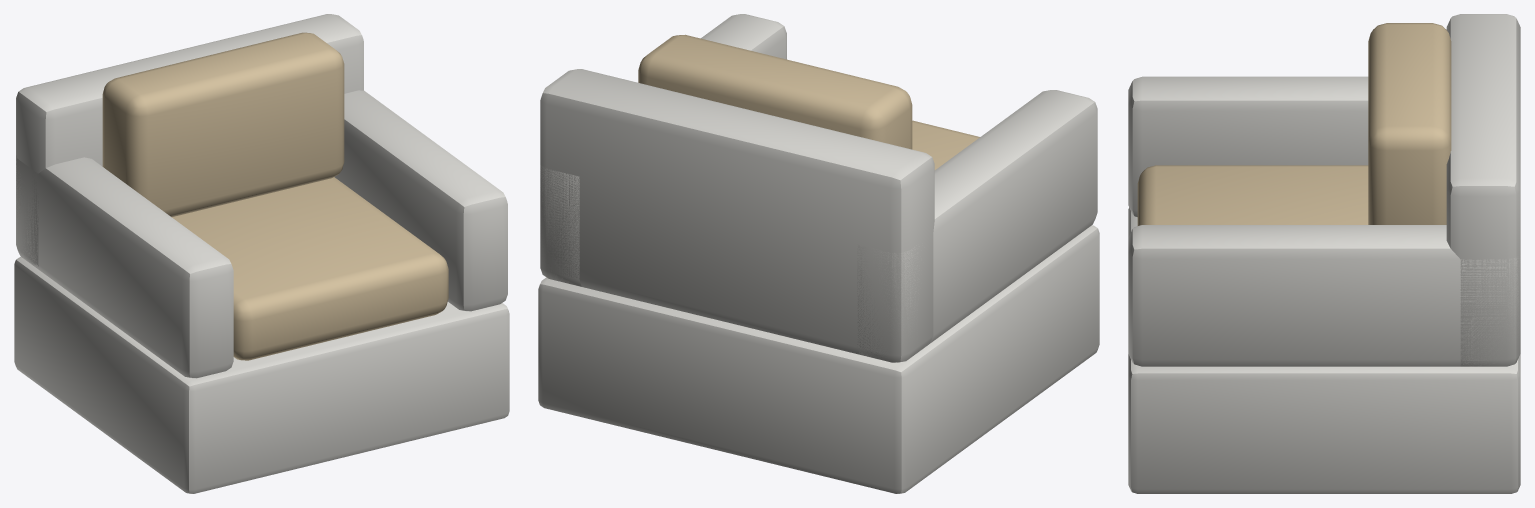
The model's file is marlin_armchair.glb.
The picture shows the model from 3 angles, left to right: view 1: azimuth 30°, elevation 25°; view 2: azimuth 150°, elevation 25°; view 3: azimuth 270°, elevation 25°; orthographic projection. The views are drawn at different scales.
Parts seen in each view (by area): view 1: marlin_armchair; view 2: marlin_armchair; view 3: marlin_armchair.
Boxes of the visible parts, x1,y1,x2,y2 form: marlin_armchair: [14, 14, 509, 493]; marlin_armchair: [538, 14, 1099, 493]; marlin_armchair: [1128, 14, 1520, 493].
Size of the model in its own units: 0.9 by 0.8 by 0.85.
